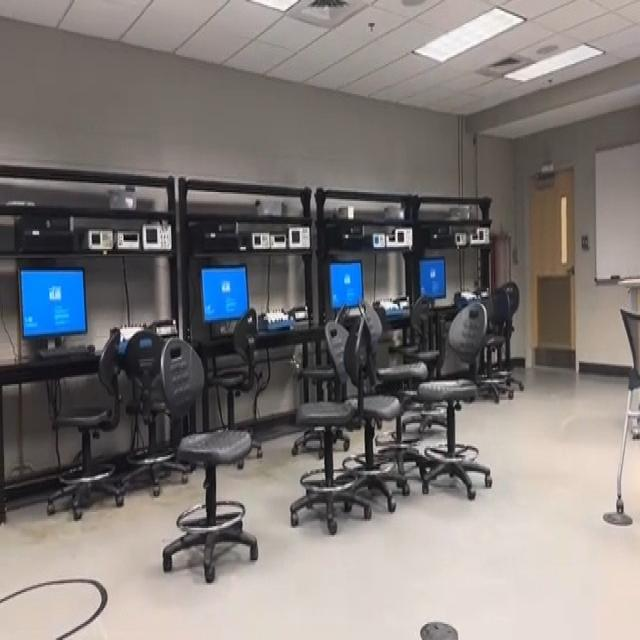drone: (284, 337, 307, 378)
